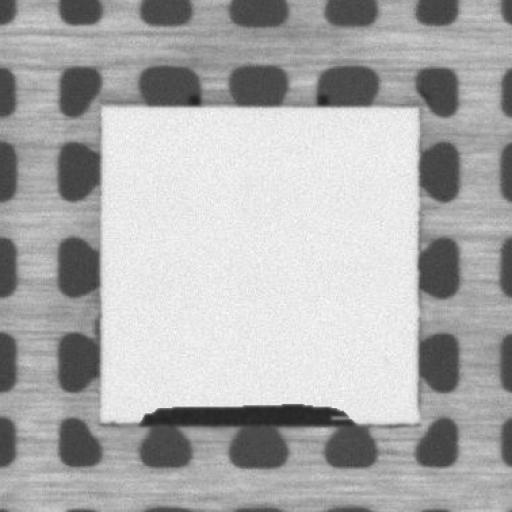DIE_BROKEN: (136, 401, 356, 428)
